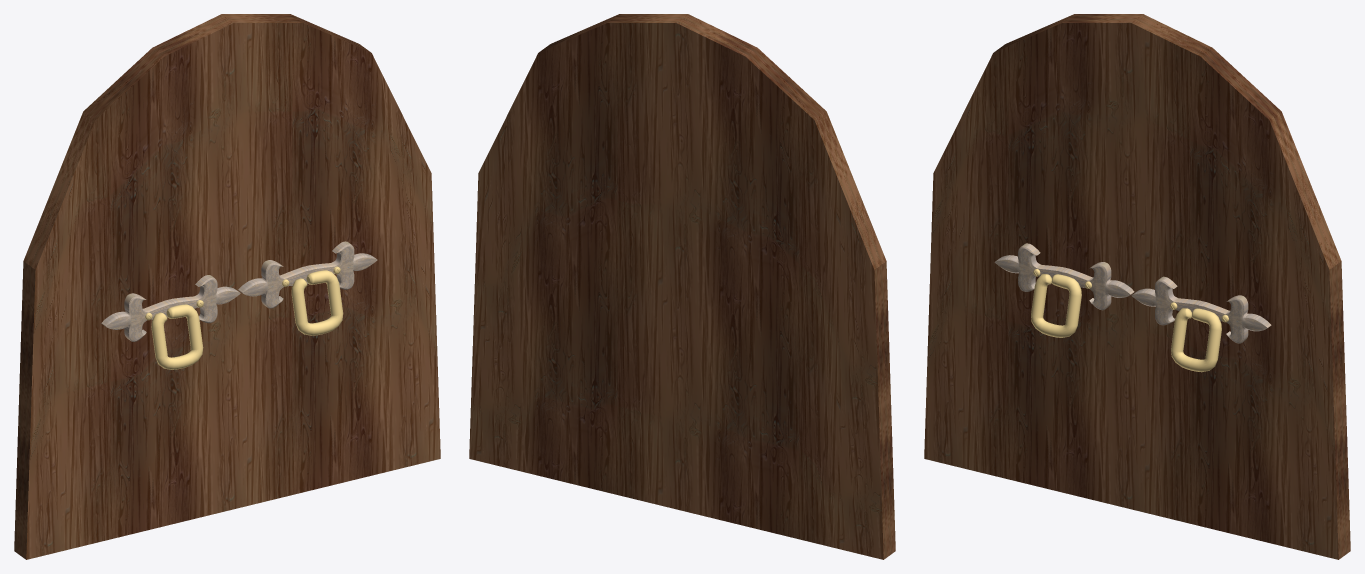
File: Wooden Door.fbx
3 renders of one model, left to right at view 1: azimuth 30°, elevation 25°; view 2: azimuth 150°, elevation 25°; view 3: azimuth 330°, elevation 25°, orthographic.
Parts seen in each view (by area): view 1: door, ringDeco_base16, ringDeco_base17, chain_piece4, chain_piece7; view 2: door; view 3: door, ringDeco_base17, ringDeco_base16, chain_piece4, chain_piece7.
Boxes of the visible parts, x1,y1,x2,y2 form: door: (14, 14, 440, 559); ringDeco_base16: (101, 275, 240, 341); ringDeco_base17: (238, 241, 377, 308); chain_piece4: (151, 304, 203, 369); chain_piece7: (291, 270, 343, 335); door: (469, 14, 895, 559); door: (924, 14, 1350, 559); ringDeco_base17: (1131, 276, 1271, 343); ringDeco_base16: (994, 243, 1134, 310); chain_piece4: (1031, 274, 1081, 337); chain_piece7: (1171, 308, 1221, 372).
Bounding box in the file's own units: 5.18 × 5.81 × 0.607.
